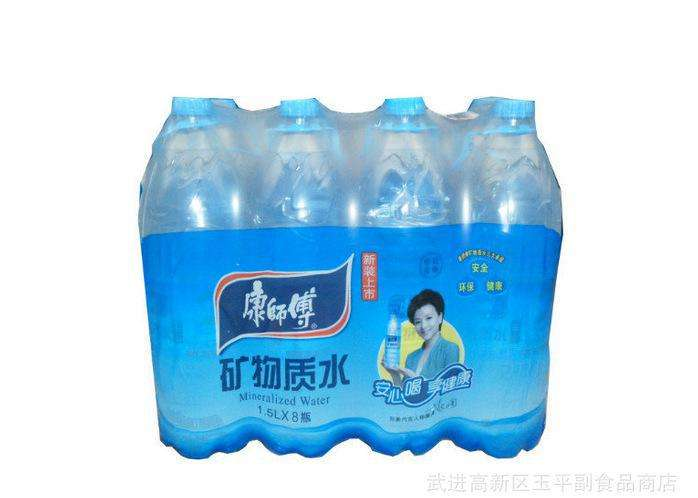amwater: (99, 65, 577, 470)
